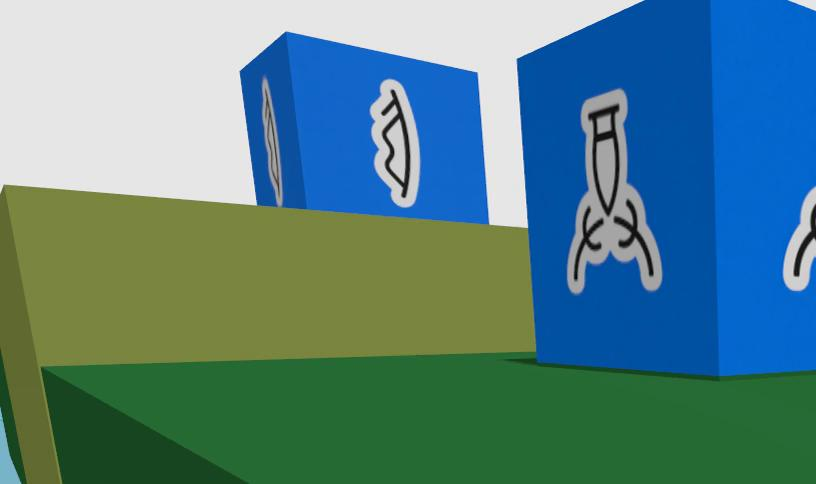KFS_REAL: (518, 0, 816, 376), (240, 32, 487, 222), (566, 89, 662, 293), (370, 79, 421, 207), (783, 185, 816, 290), (261, 76, 282, 206)
